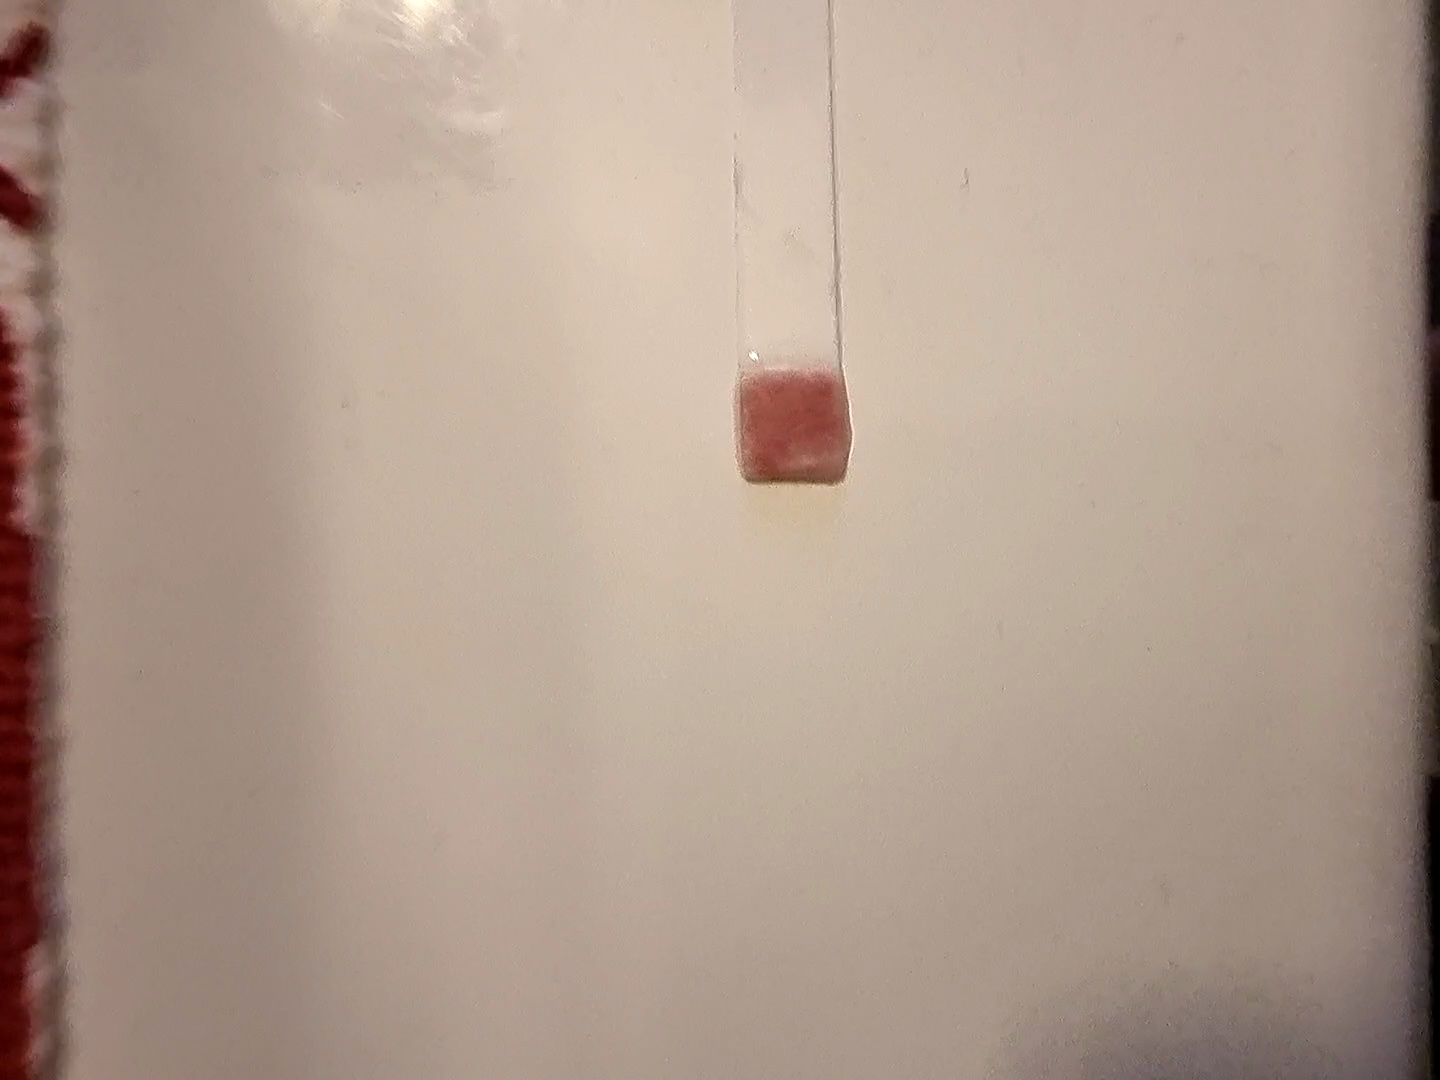keto-tip: (732, 368, 859, 487)
